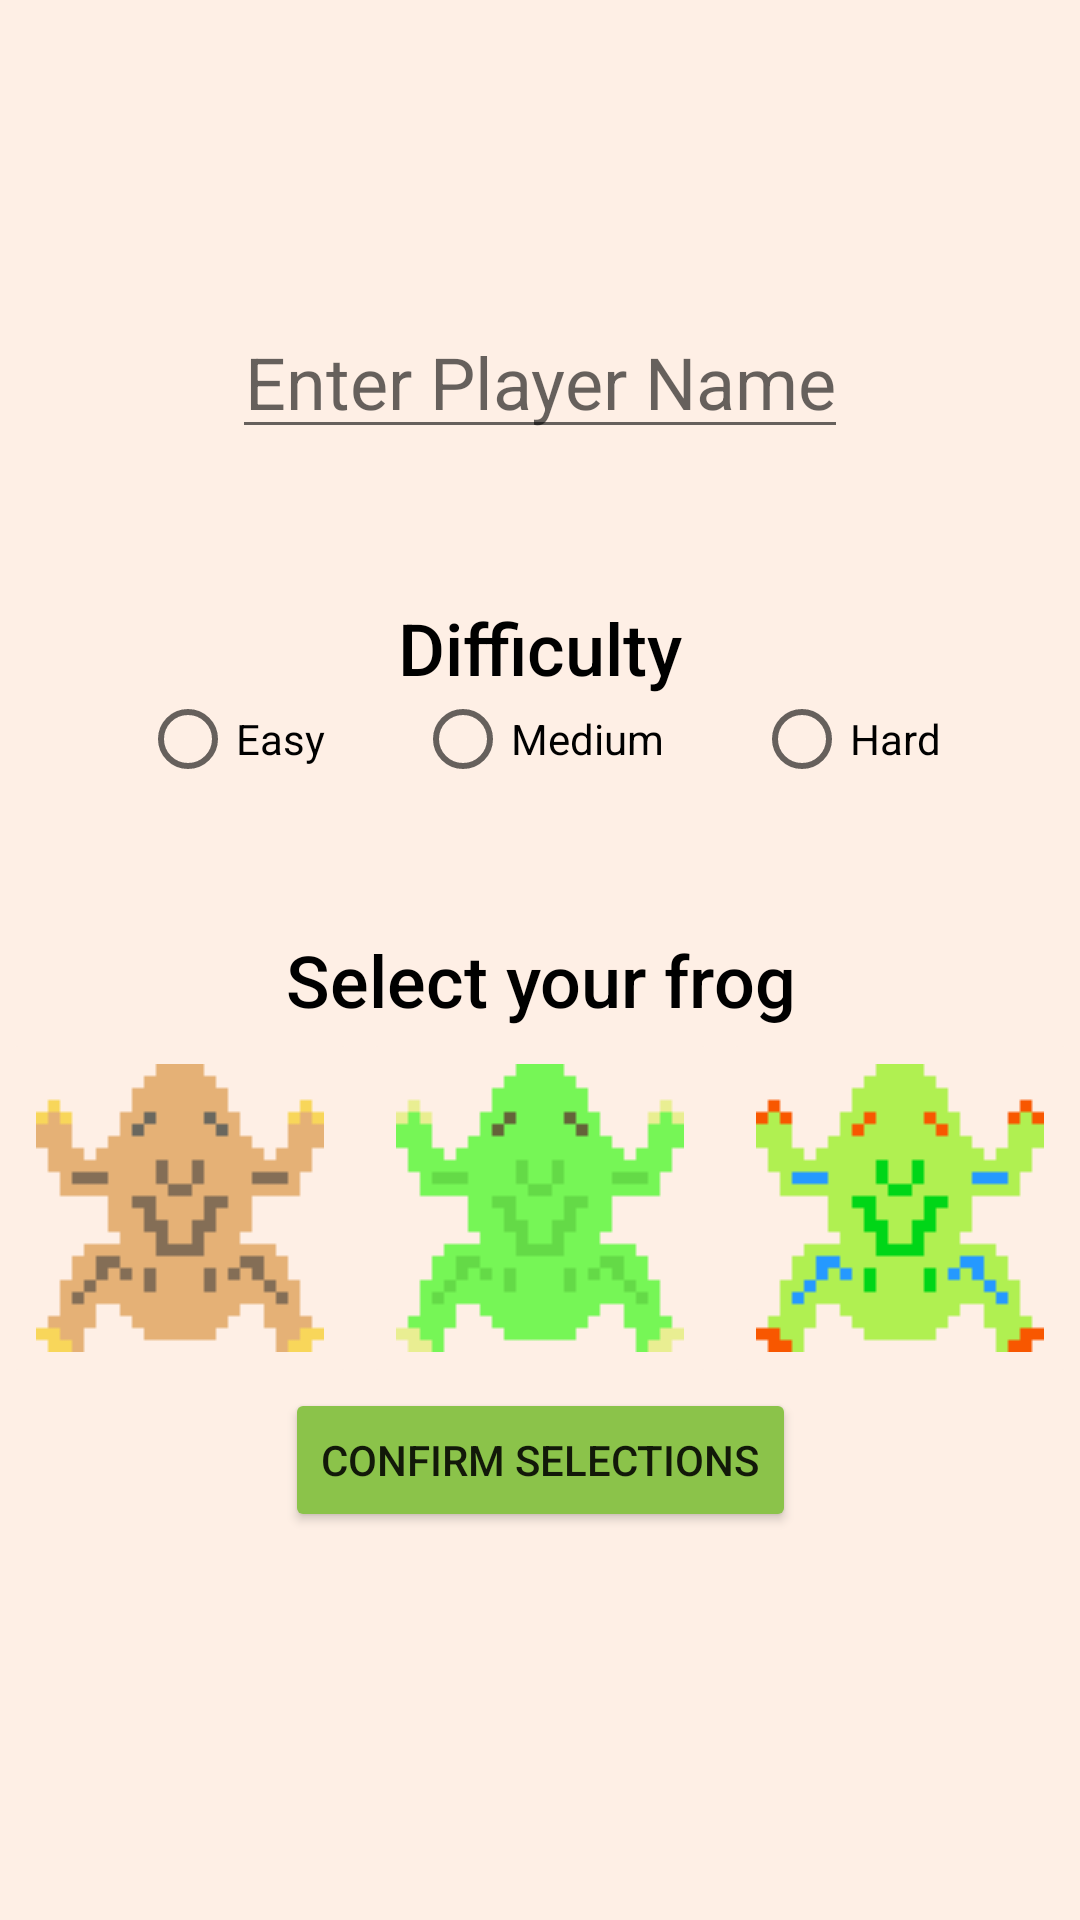

Point at icon controls on the screen. Image size 1080 × 1920, points as (x=x, y=y).
Button to choose frog0: (x=180, y=1208)
Button to choose frog1: (x=540, y=1208)
Button to choose frog2: (x=900, y=1208)
